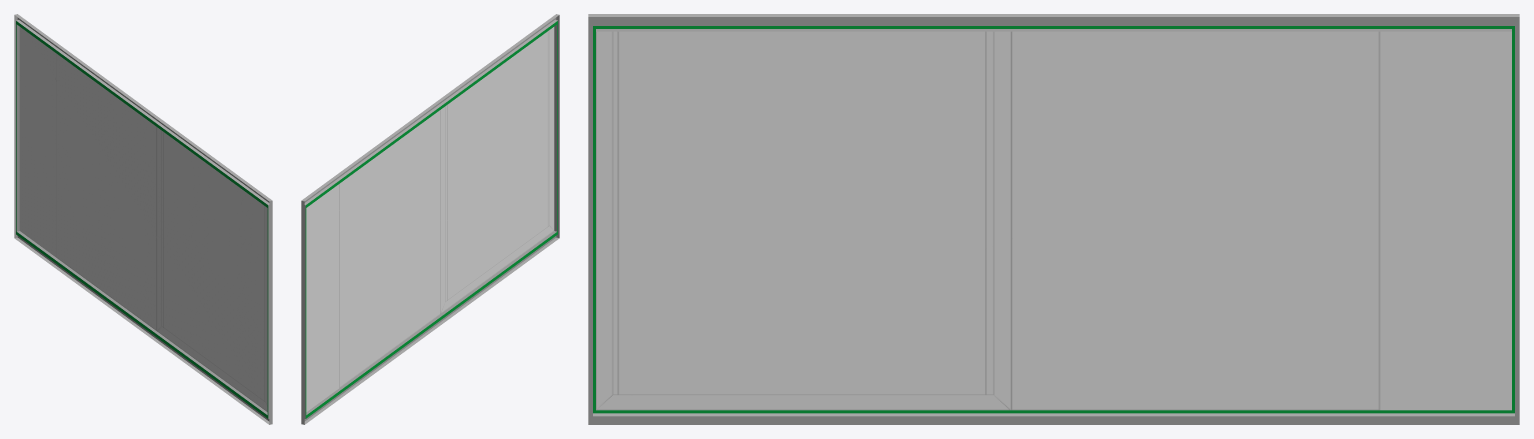
File: Wall_Frame.fbx
3 renders of one model, left to right at view 1: azimuth 30°, elevation 25°; view 2: azimuth 150°, elevation 25°; view 3: azimuth 270°, elevation 25°, orthographic. The views are drawn at different scales.
Visible parts, largest first — view 1: Wall_Frame_1; view 2: Wall_Frame_1; view 3: Wall_Frame_1.
Boxes of the visible parts, x1,y1,x2,y2 form: Wall_Frame_1: [14, 14, 272, 424]; Wall_Frame_1: [301, 14, 559, 424]; Wall_Frame_1: [588, 14, 1519, 424].
Size of the model in its own units: 0.0253 by 1.59 by 3.28.
Materials: 4 (1 with a texture image).
